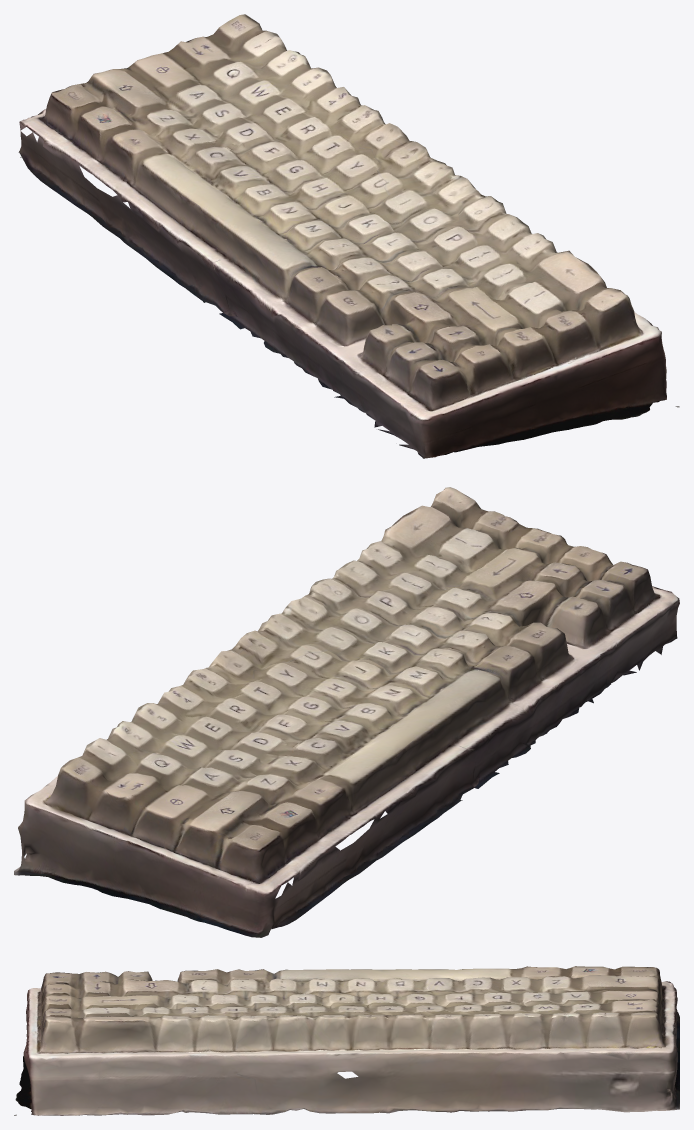
File: keebRender.gltf
3 views of the same model, one above another, from view 1: azimuth 30°, elevation 25°; view 2: azimuth 150°, elevation 25°; view 3: azimuth 270°, elevation 25° (orthographic). The views are drawn at different scales.
Visible parts, largest first — view 1: Oct3at9_22PM_poly; view 2: Oct3at9_22PM_poly; view 3: Oct3at9_22PM_poly.
Boxes of the visible parts, x1,y1,x2,y2 form: Oct3at9_22PM_poly: (18,14,679,458); Oct3at9_22PM_poly: (14,487,679,937); Oct3at9_22PM_poly: (14,966,679,1115).
Bounding box in the file's own units: 0.1313 × 0.0549 × 0.3782.
Materials: 1 (1 with a texture image).
